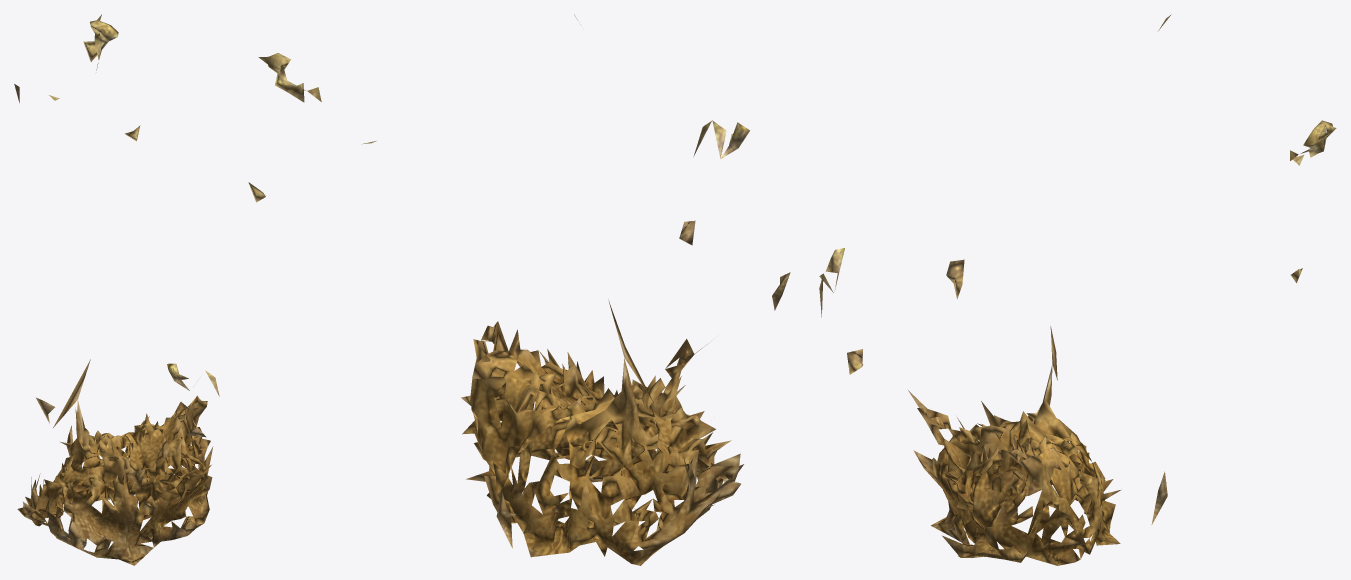
File: drybush.glb
The picture shows the model from 3 angles, left to right: view 1: azimuth 30°, elevation 25°; view 2: azimuth 150°, elevation 25°; view 3: azimuth 270°, elevation 25°; orthographic projection. The views are drawn at different scales.
Parts seen in each view (by area): view 1: geometry_0; view 2: geometry_0; view 3: geometry_0.
Part boxes in pixels (x1,y1,x2,y2): geometry_0: [14, 14, 219, 565]; geometry_0: [248, 14, 790, 565]; geometry_0: [819, 14, 1336, 565].
Bounding box in the file's own units: 0.5849 × 0.9509 × 0.8925.
Materials: 1 (1 with a texture image).
